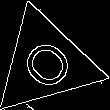O_SE: (13, 30, 79, 96)
